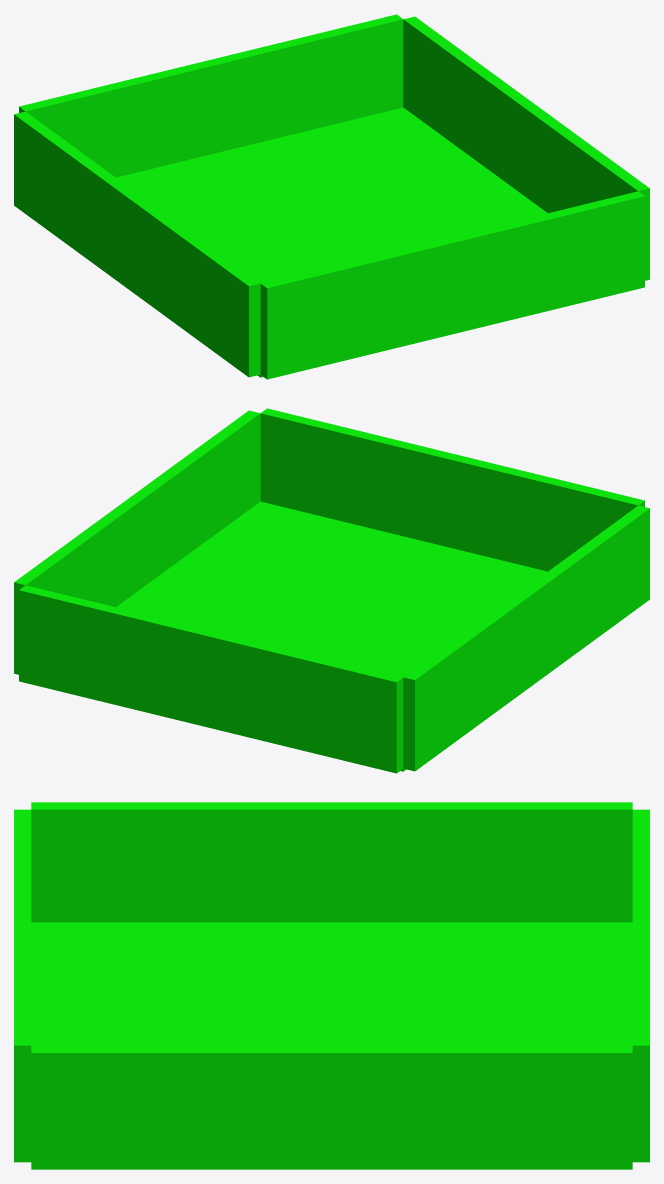
File: dining-hall.collision.optimized.glb
The picture shows the model from 3 angles, top to bottom: view 1: azimuth 30°, elevation 25°; view 2: azimuth 150°, elevation 25°; view 3: azimuth 270°, elevation 25°; orthographic projection. The views are drawn at different scales.
Parts seen in each view (by area): view 1: floor_collision_proxy; view 2: floor_collision_proxy; view 3: floor_collision_proxy.
Part boxes in pixels (bbox=[...]): floor_collision_proxy: bbox=[14, 14, 649, 379]; floor_collision_proxy: bbox=[14, 408, 649, 773]; floor_collision_proxy: bbox=[14, 802, 649, 1169].
Bounding box in the file's own units: 13.8 × 3.1 × 14.8.
